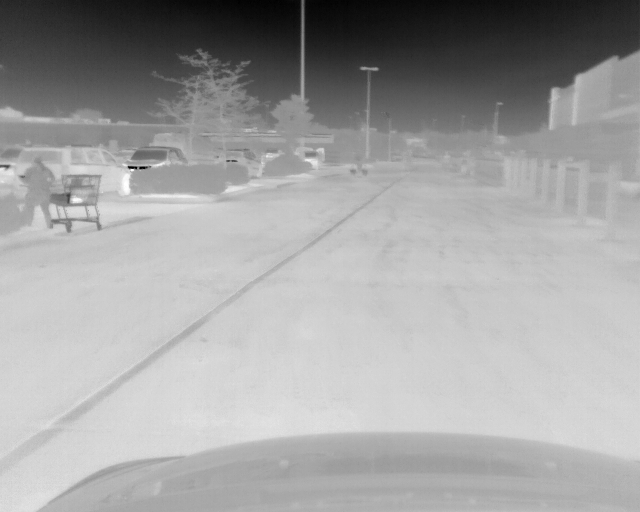car: (17, 146, 131, 196), (124, 146, 187, 175), (1, 163, 24, 233), (215, 148, 261, 177), (304, 149, 324, 169), (262, 148, 286, 163)
people: (20, 160, 58, 228)
